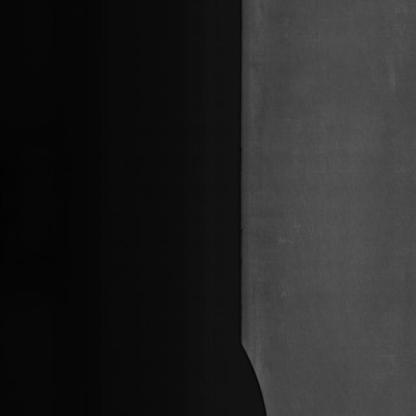crescent_gap: (227, 326, 277, 416)
